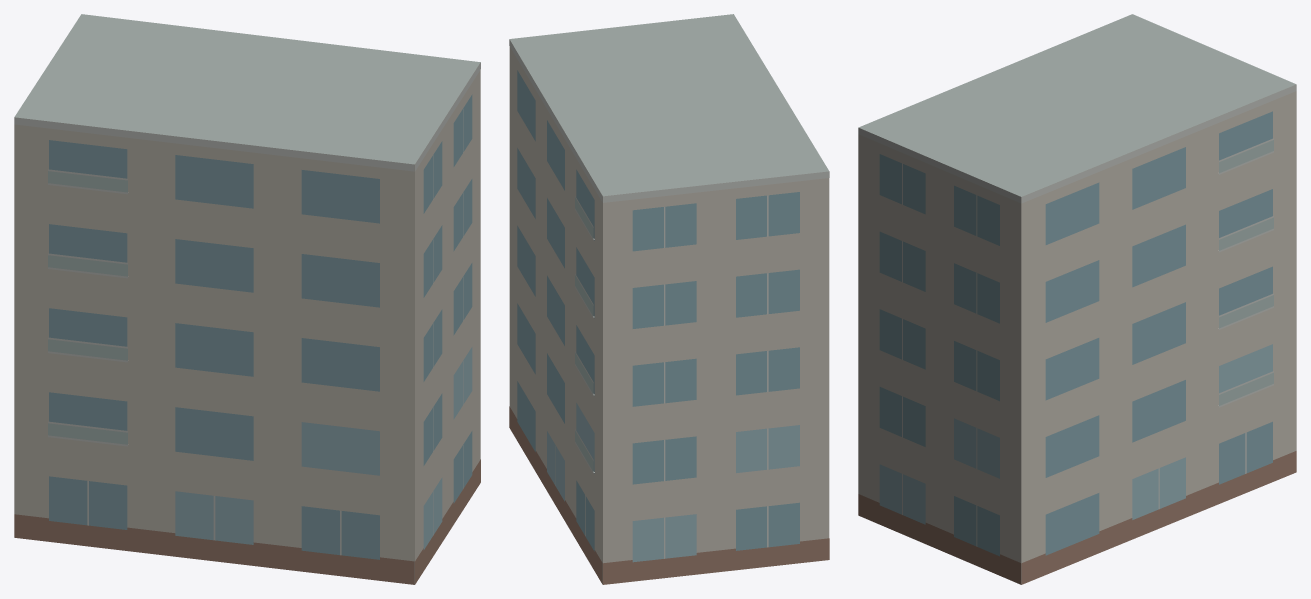
Rendered from survey-upis-32888382.glb.
3 views of the same model, side by side, from view 1: azimuth 30°, elevation 25°; view 2: azimuth 150°, elevation 25°; view 3: azimuth 270°, elevation 25° (orthographic). The views are drawn at different scales.
Visible parts, largest first — view 1: survey-upis-32888382.tmp; view 2: survey-upis-32888382.tmp; view 3: survey-upis-32888382.tmp.
Boxes of the visible parts, <box> form: survey-upis-32888382.tmp: <box>14,14,480,584</box>; survey-upis-32888382.tmp: <box>509,14,829,584</box>; survey-upis-32888382.tmp: <box>858,14,1296,584</box>.
Bounding box in the file's own units: 14.53 × 14.35 × 14.7.
